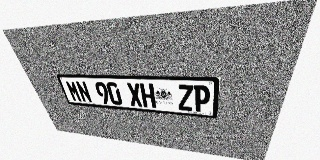0: (105, 82, 123, 105)
9: (94, 82, 111, 104)
H: (139, 83, 156, 108)
M: (65, 81, 83, 102)
N: (75, 81, 93, 103)
P: (194, 85, 211, 112)
X: (126, 83, 143, 107)
Z: (177, 84, 193, 111)
